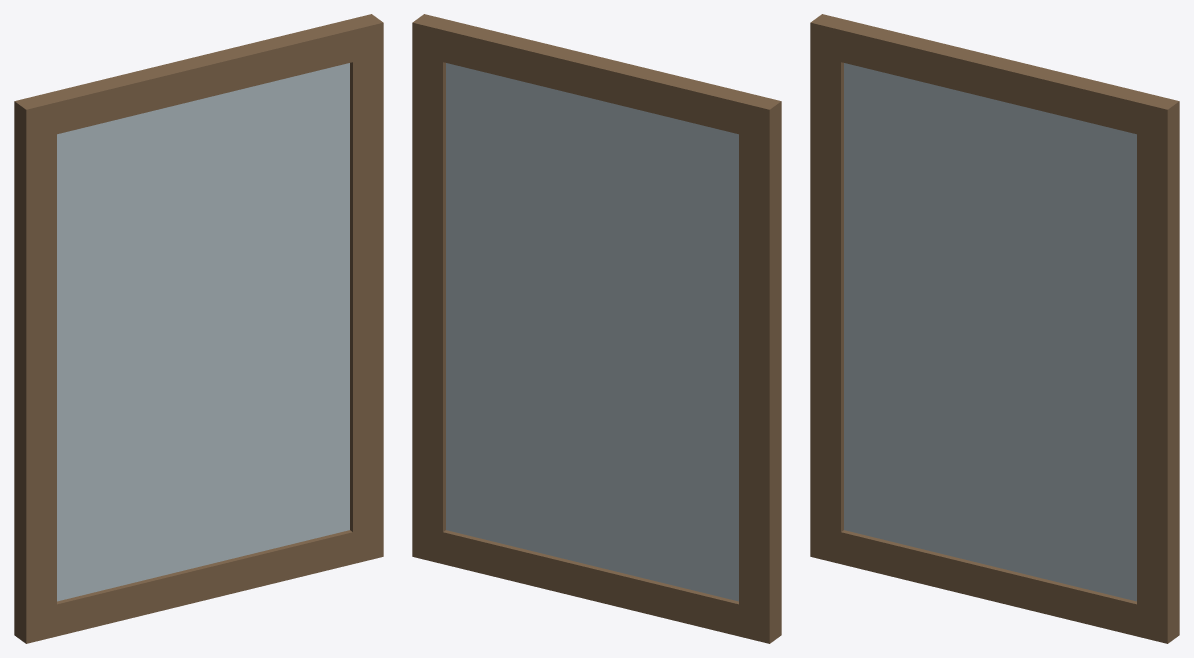
Rendered from arte_espelho.glb.
3 views of the same model, side by side, from view 1: azimuth 30°, elevation 25°; view 2: azimuth 150°, elevation 25°; view 3: azimuth 330°, elevation 25° (orthographic).
Visible parts, largest first — view 1: ARTE_Espelho_v01; view 2: ARTE_Espelho_v01; view 3: ARTE_Espelho_v01.
Boxes of the visible parts, x1,y1,x2,y2 form: ARTE_Espelho_v01: (14,14,383,643); ARTE_Espelho_v01: (412,14,781,643); ARTE_Espelho_v01: (810,14,1179,643).
Bounding box in the file's own units: 0.7 × 1 × 0.04.
